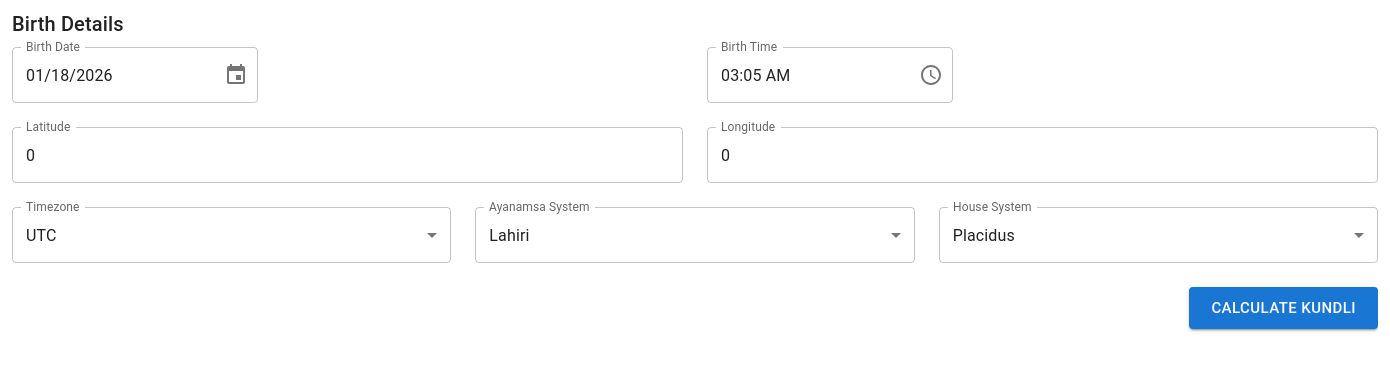
Scenario: KundliForm Component › validates longitude range
The image size is (1390, 372).
Replace the text in the number field labelled "Longitude" with "181" at (1042, 155), box [707, 127, 1378, 183]
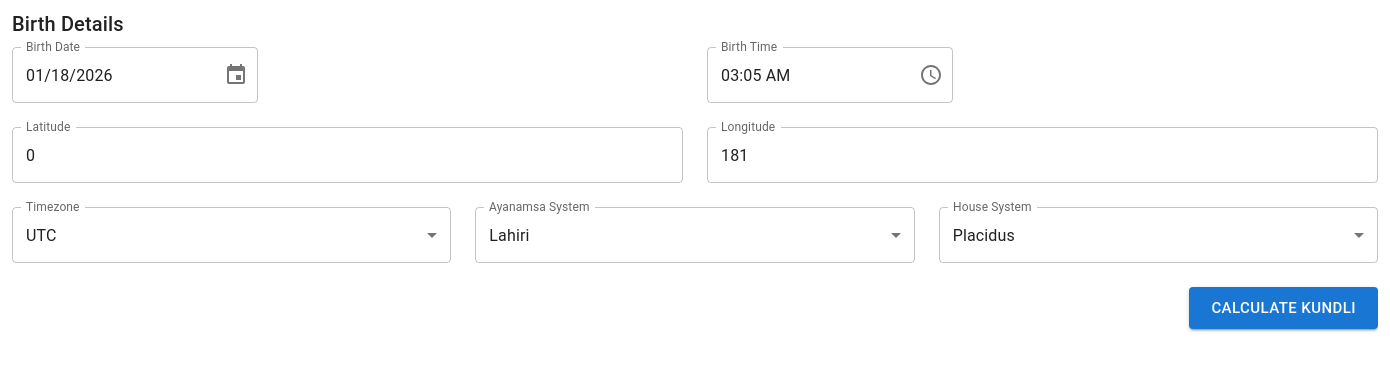
Click the button "Calculate Kundli" at (1284, 308), box [1189, 287, 1378, 329]
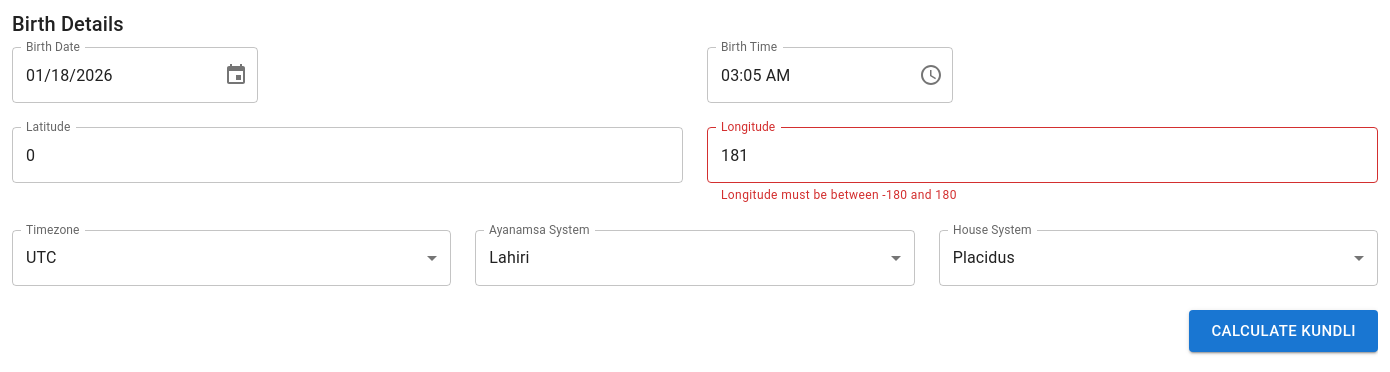
expect the text "Longitude must be between -180 and 180" is shown: met, box [721, 188, 957, 202]
